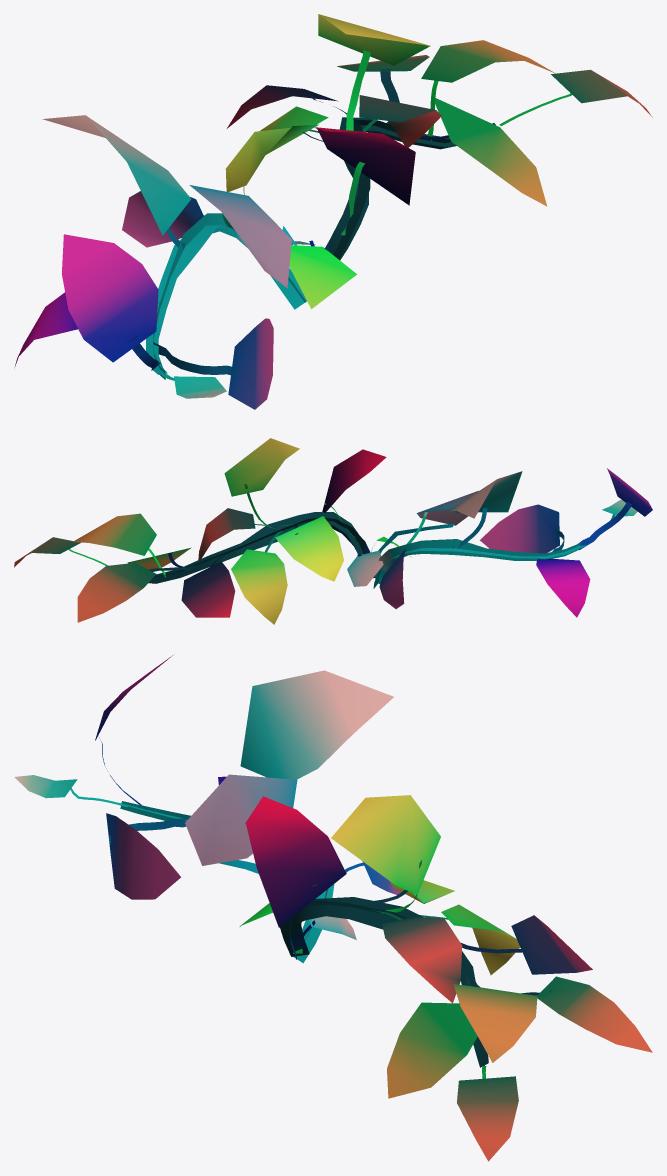
File: Money_Plant_uchmfdyia_Low_uchmfdyia_VarD_LOD1.fbx
The picture shows the model from 3 angles, top to bottom: view 1: azimuth 30°, elevation 25°; view 2: azimuth 150°, elevation 25°; view 3: azimuth 270°, elevation 25°; orthographic projection. The views are drawn at different scales.
Visible parts, largest first — view 1: _9edd_VarD_LOD2; view 2: _9edd_VarD_LOD2; view 3: _9edd_VarD_LOD2.
Boxes of the visible parts, box(x1,y1,x2,y2) form: _9edd_VarD_LOD2: box(14, 14, 652, 409); _9edd_VarD_LOD2: box(14, 438, 652, 624); _9edd_VarD_LOD2: box(14, 654, 652, 1161).
Bounding box in the file's own units: 37.57 × 10.94 × 29.79.
